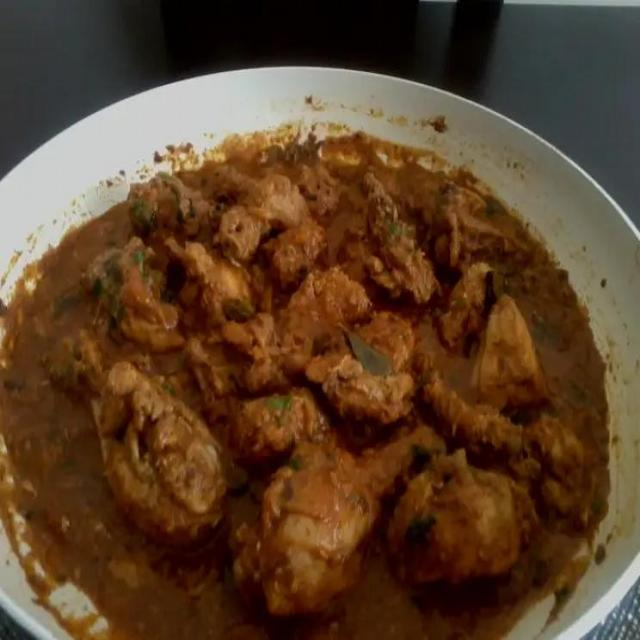chicken: (4, 142, 639, 640)
